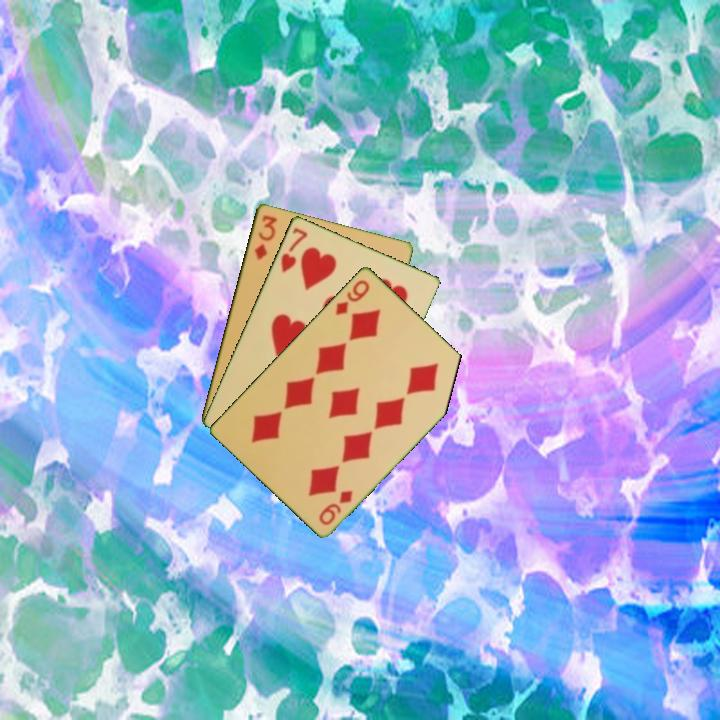3d: (250, 211, 280, 263)
7h: (277, 224, 310, 275)
9d: (332, 276, 373, 318), (315, 486, 356, 527)
